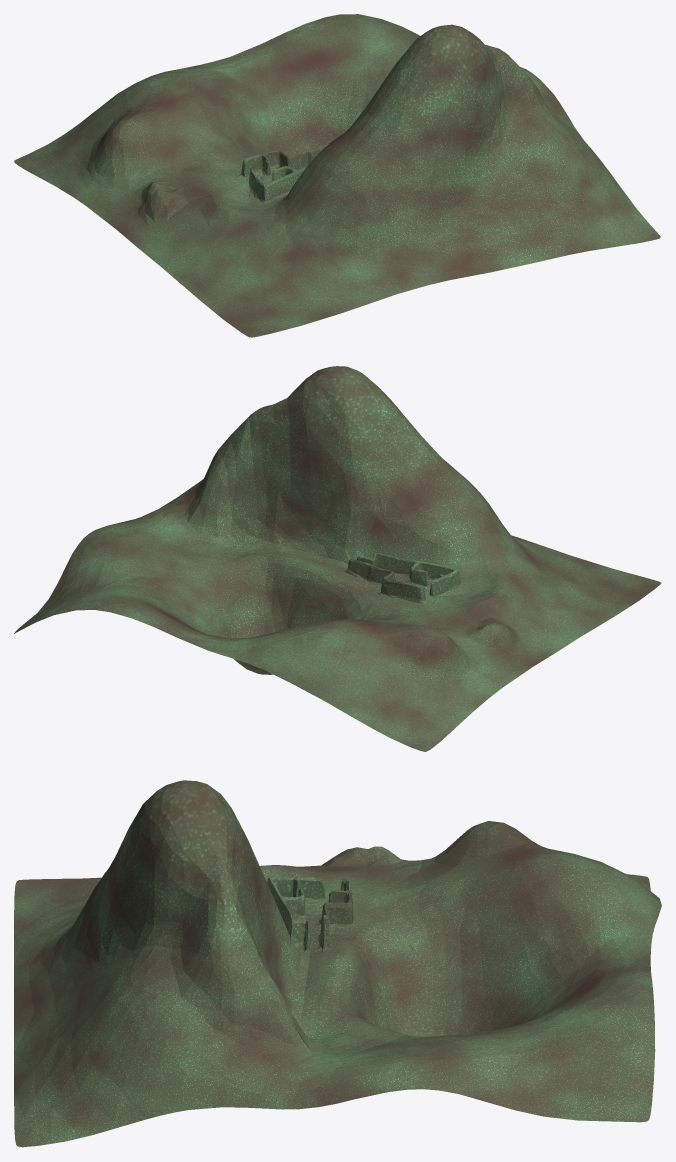
File: com_textura.obj
3 renders of one model, top to bottom at view 1: azimuth 30°, elevation 25°; view 2: azimuth 150°, elevation 25°; view 3: azimuth 270°, elevation 25°, orthographic. The views are drawn at different scales.
Parts seen in each view (by area): view 1: Grid_Grid.001; view 2: Grid_Grid.001; view 3: Grid_Grid.001.
Part boxes in pixels (bbox=[...]): Grid_Grid.001: bbox=[14, 14, 660, 337]; Grid_Grid.001: bbox=[14, 366, 661, 751]; Grid_Grid.001: bbox=[14, 780, 661, 1147].
Bounding box in the file's own units: 1900 × 970 × 1855.
Materials: 1 (1 with a texture image).
